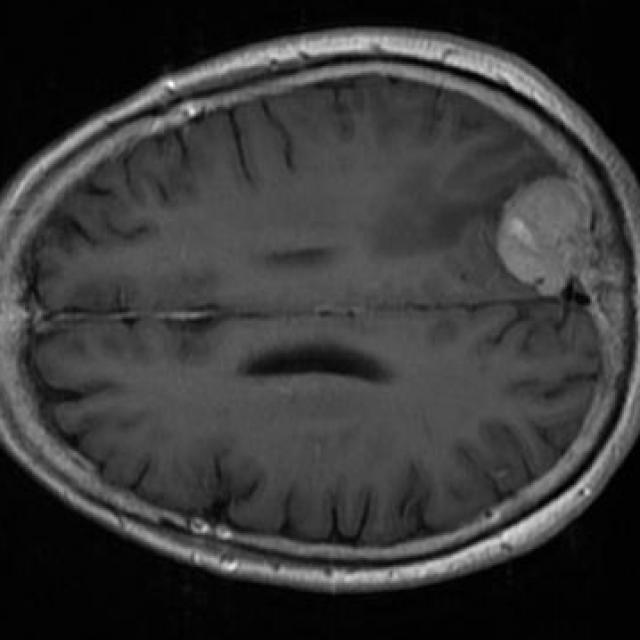meningioma: (496, 176, 594, 296)
